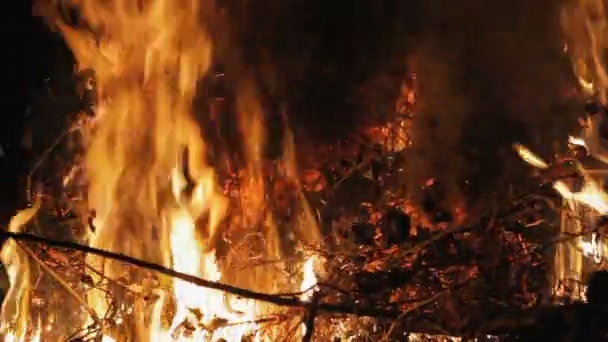fire: (46, 1, 317, 342), (2, 205, 37, 342), (553, 178, 608, 213), (578, 235, 608, 261), (518, 147, 543, 167), (303, 261, 316, 297), (569, 137, 586, 144)
